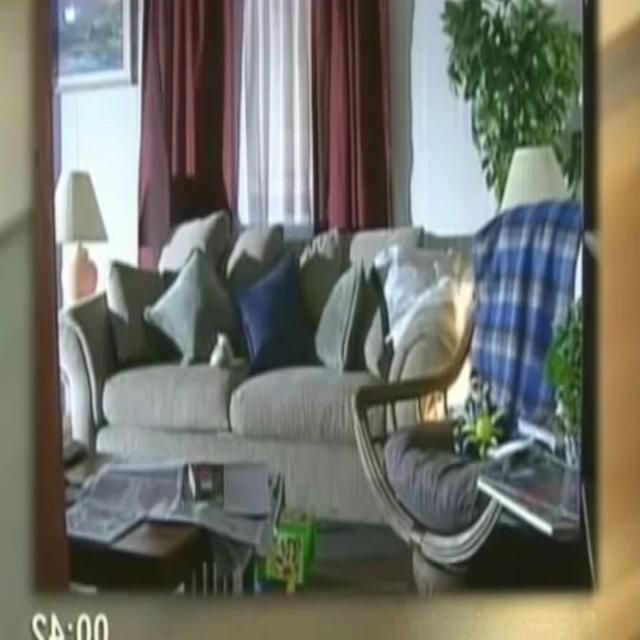smoke: (425, 284, 474, 423)
